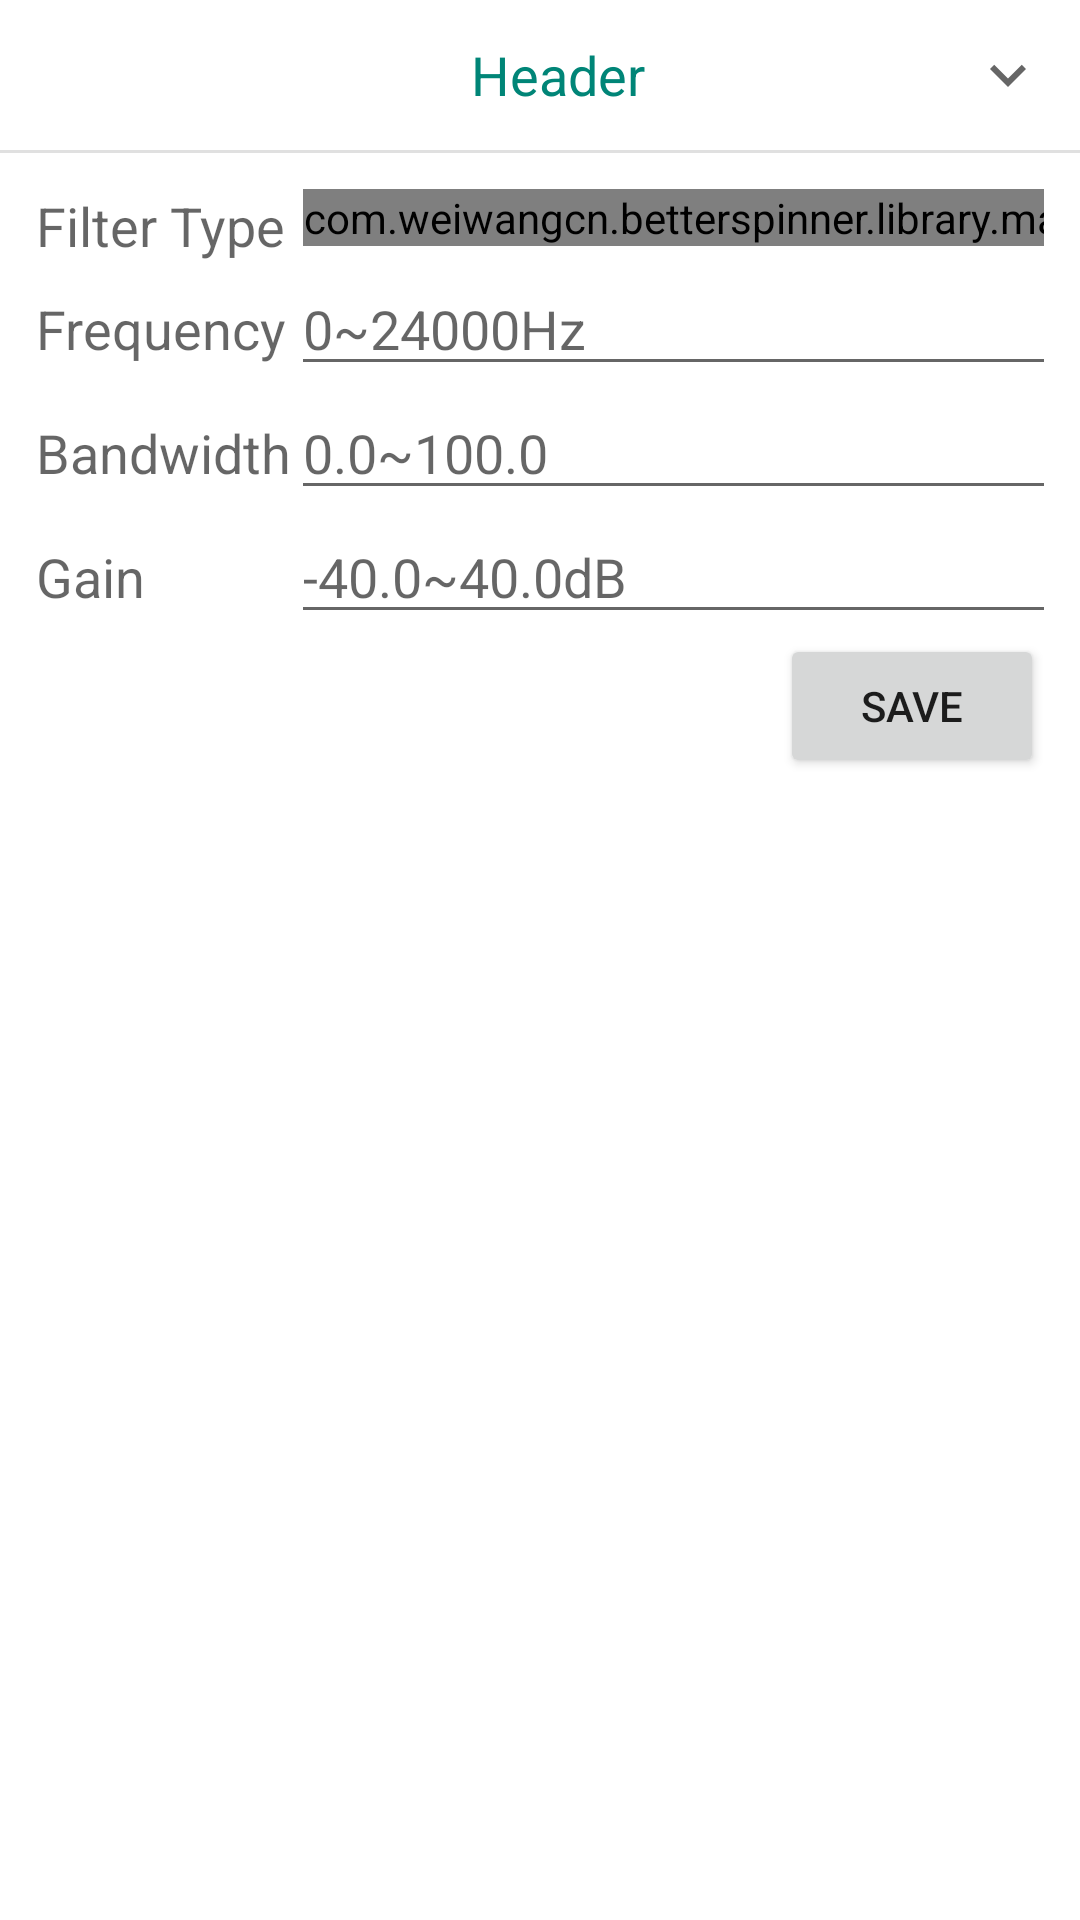

Locate icon controls on the screen. Image size 1080*1920, boxes as bbox(x1, y1, x2, y2).
expand more: bbox(990, 65, 1026, 87)
